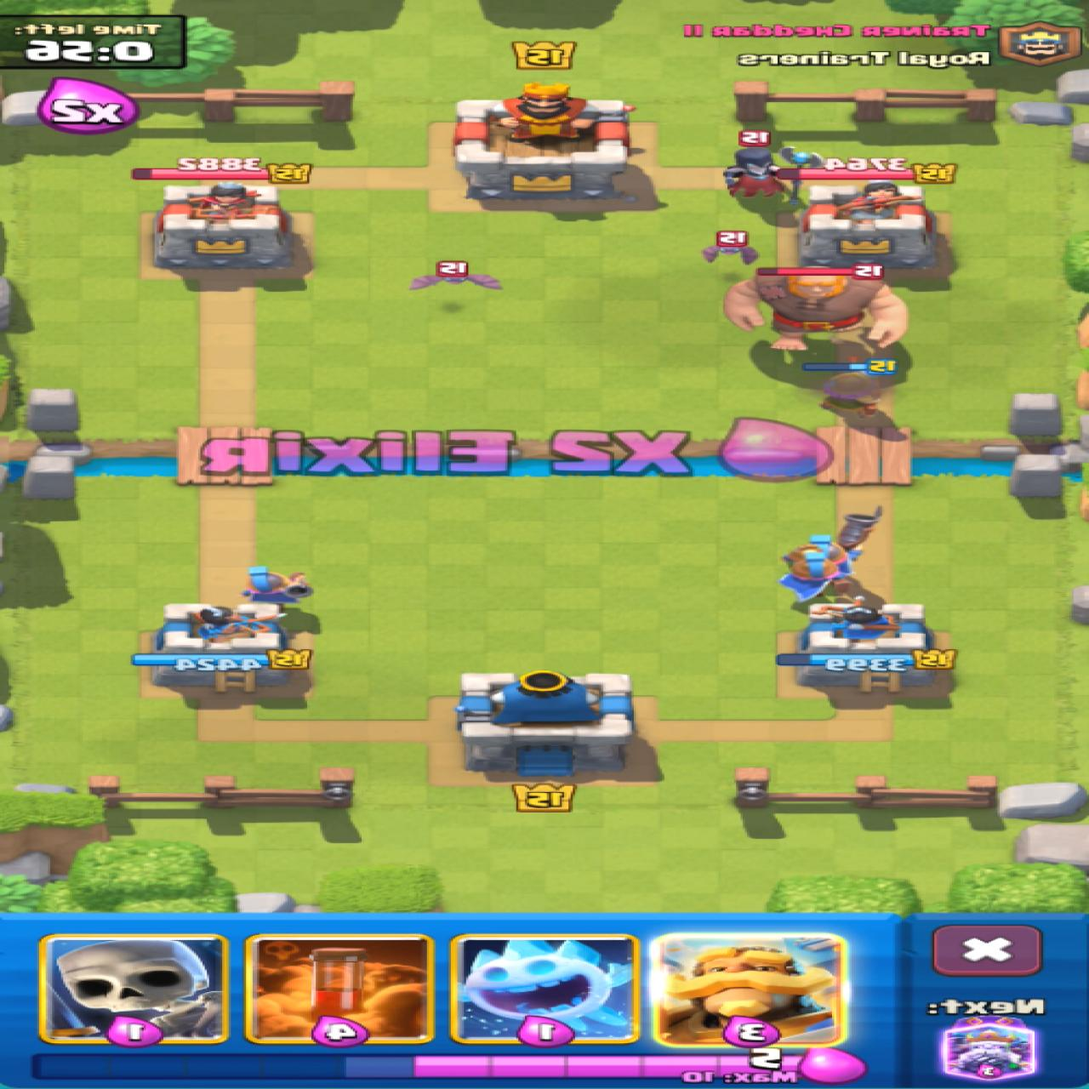Enemy-Bat: (412, 260, 501, 289), (703, 232, 758, 263)
Enemy-Giant: (725, 271, 906, 350)
Enemy-KingTower: (455, 85, 638, 201)
Enemy-NightWitch: (725, 131, 786, 197), (782, 147, 821, 167), (793, 179, 802, 204)
Enemy-PrincessTower: (157, 182, 292, 269), (802, 181, 937, 267)
